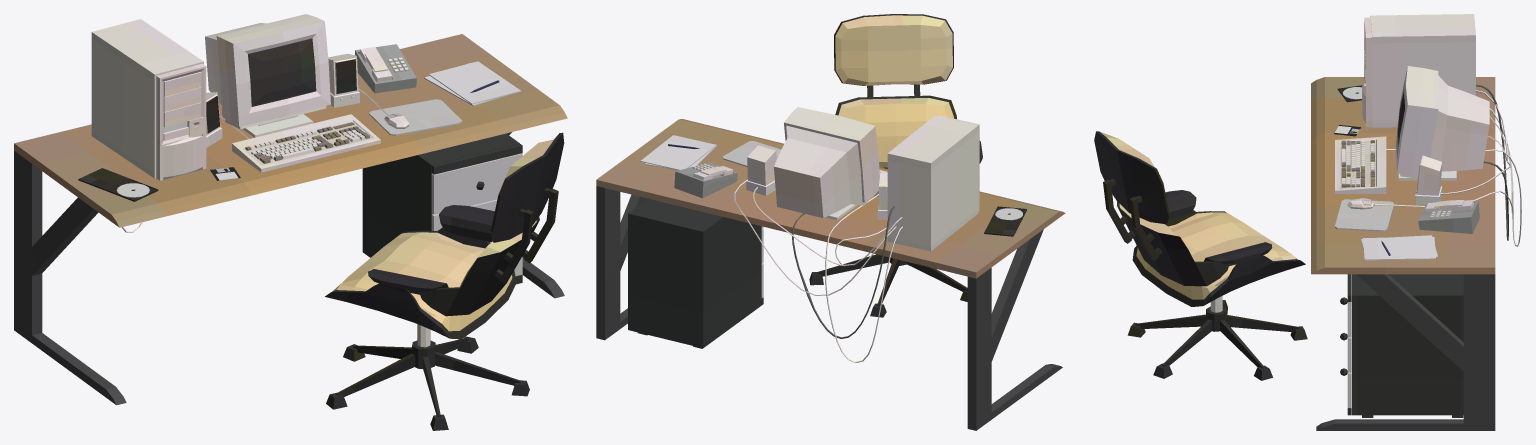
The model's file is computer-optimized-transformed.glb.
3 renders of one model, left to right at view 1: azimuth 30°, elevation 25°; view 2: azimuth 150°, elevation 25°; view 3: azimuth 270°, elevation 25°, orthographic. The views are drawn at different scales.
Parts seen in each view (by area): view 1: Cube.000_ComputerDesk_0.001; view 2: Cube.000_ComputerDesk_0.001; view 3: Cube.000_ComputerDesk_0.001.
Boxes of the visible parts, box(x1,y1,x2,y2) form: Cube.000_ComputerDesk_0.001: box(14, 14, 567, 430); Cube.000_ComputerDesk_0.001: box(596, 14, 1065, 430); Cube.000_ComputerDesk_0.001: box(1094, 14, 1521, 430).
Size of the model in its own units: 188 by 116 by 178.
Materials: 2 (2 with a texture image).
